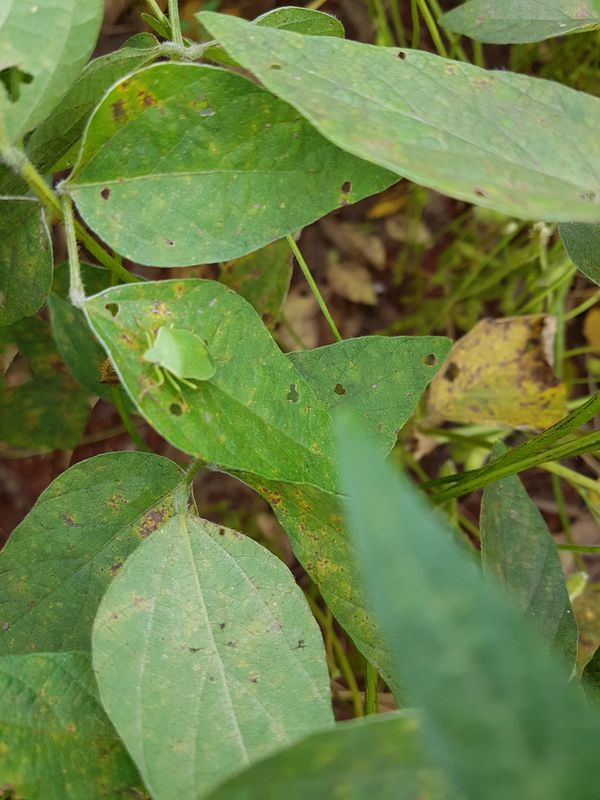Nezara_viridula_adulto: (119, 314, 229, 408)
